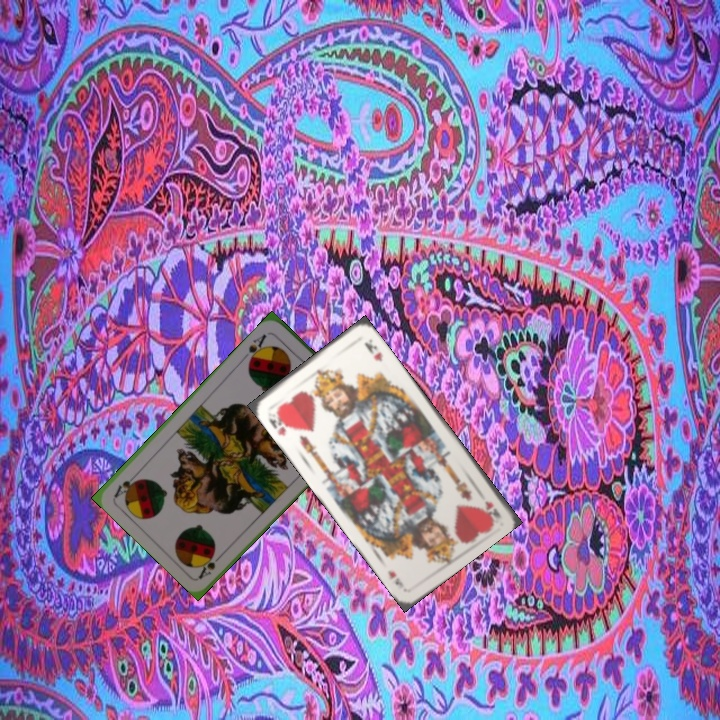HK: (265, 407, 294, 439), (481, 497, 503, 522)
SA: (195, 548, 227, 581), (244, 330, 269, 365)
